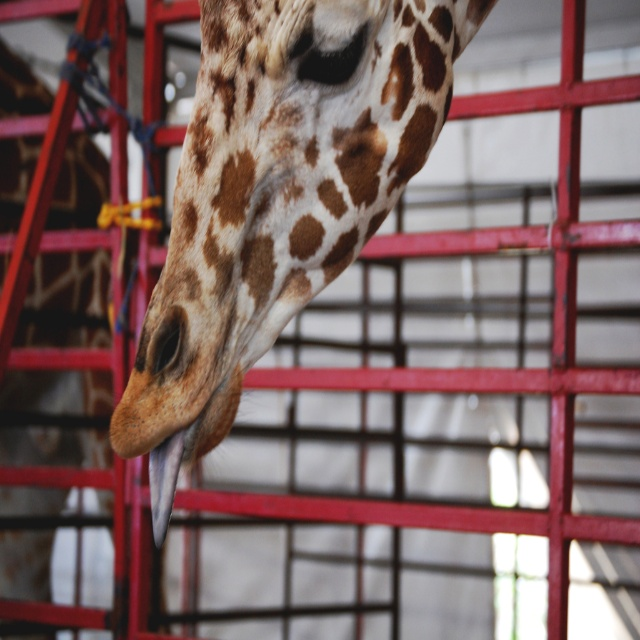Giraffe: (111, 0, 492, 550)
